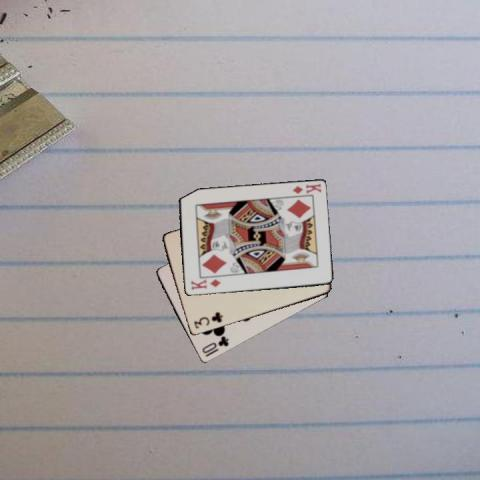10c: (199, 333, 230, 356)
3c: (191, 309, 224, 330)
Kd: (188, 276, 221, 292), (289, 181, 323, 195)
